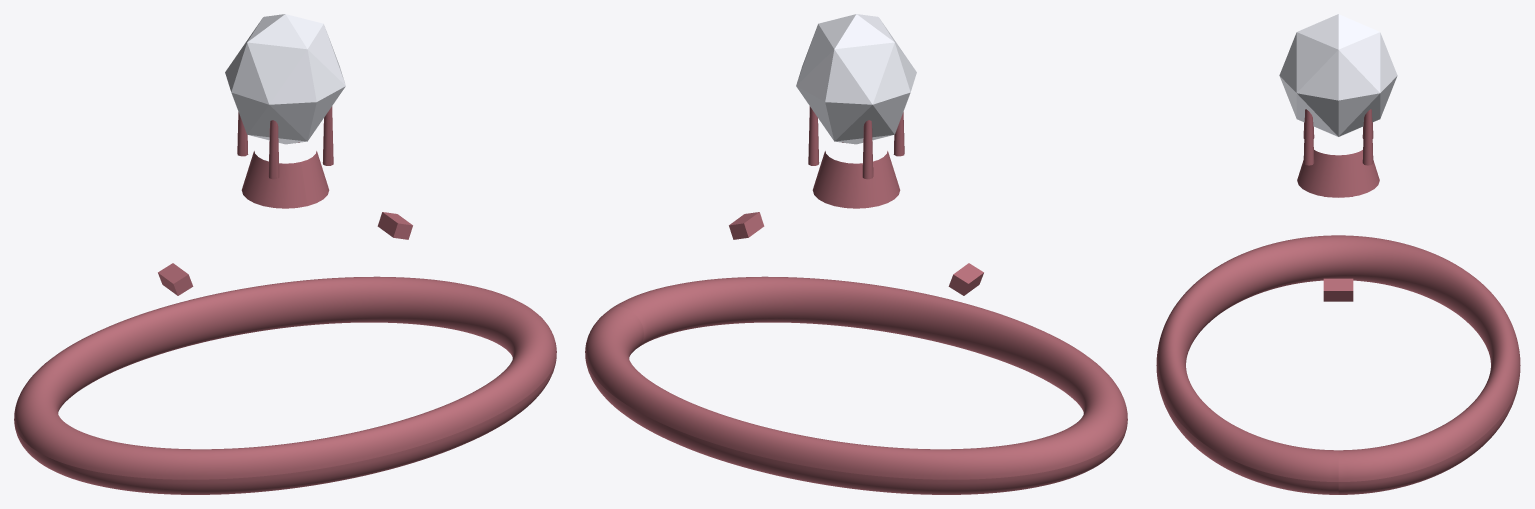
File: ring.glb
3 views of the same model, side by side, from view 1: azimuth 30°, elevation 25°; view 2: azimuth 150°, elevation 25°; view 3: azimuth 270°, elevation 25° (orthographic). The views are drawn at different scales.
Bounding box in the file's own units: 1.87 × 1.39 × 1.23.
